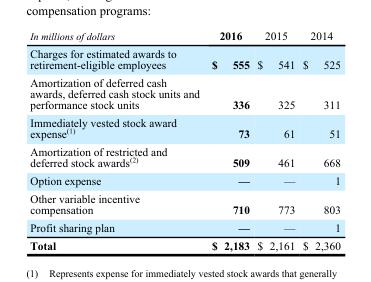table: (29, 28, 339, 250)
table column: (29, 28, 205, 250), (205, 28, 252, 250), (252, 28, 298, 250), (298, 28, 339, 250)
table column header: (29, 28, 339, 43)
table row: (29, 72, 339, 113), (29, 43, 339, 72), (29, 113, 339, 142), (29, 142, 339, 171), (29, 189, 339, 218), (29, 171, 339, 189), (29, 218, 339, 235), (29, 28, 339, 43), (29, 235, 339, 250)
